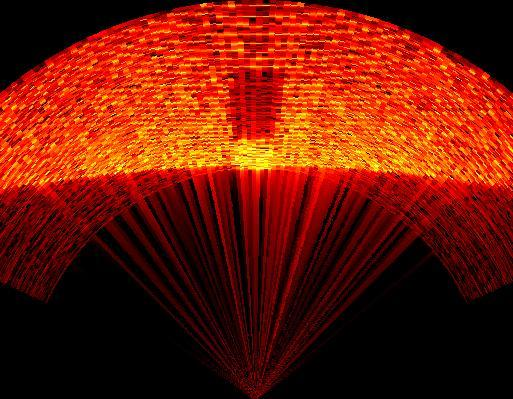box_crate: (217, 62, 290, 173)
